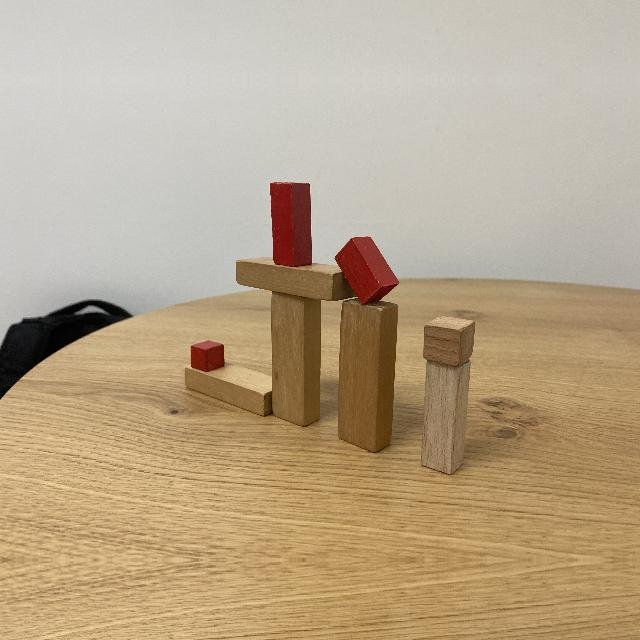block: (421, 361, 470, 476)
cube: (422, 316, 473, 364)
jenga: (337, 300, 399, 454), (269, 288, 321, 427), (236, 260, 357, 301), (185, 366, 272, 416)
red block: (334, 237, 400, 306), (270, 180, 310, 266)
red cube: (192, 342, 224, 371)
